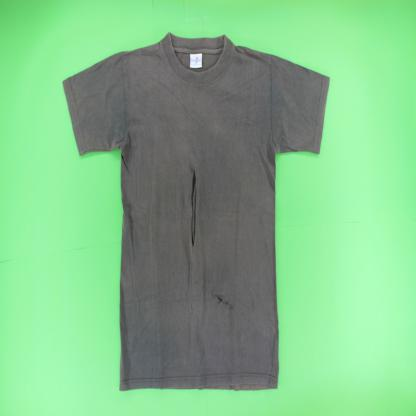hole: (188, 166, 199, 251), (211, 290, 234, 310)
